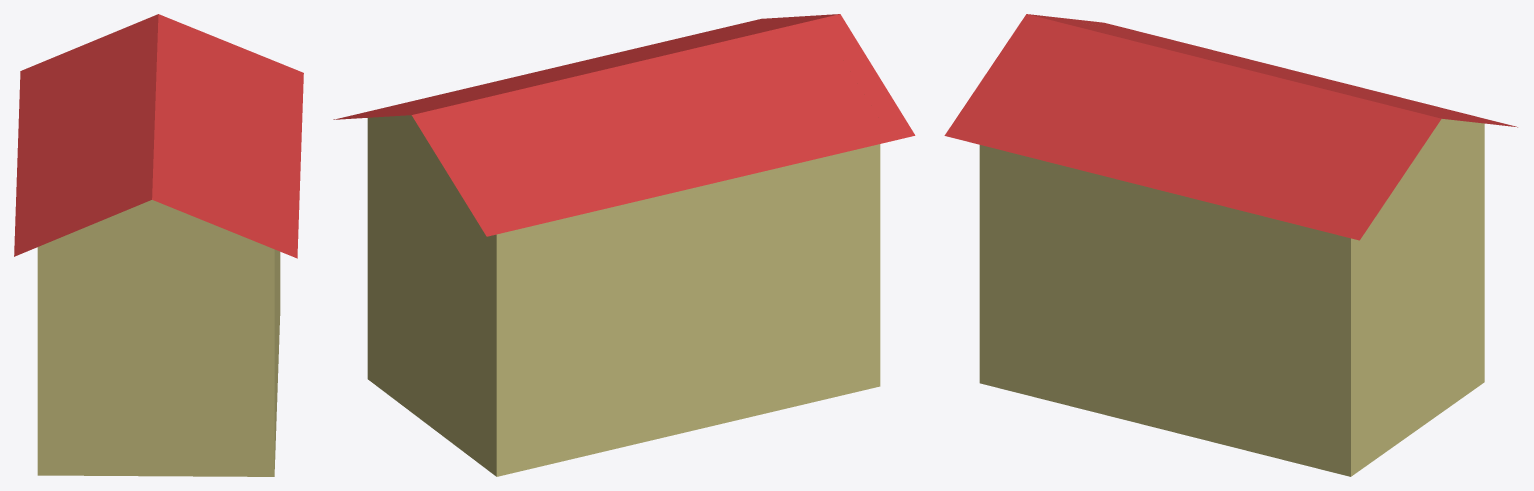
3 renders of one model, left to right at view 1: azimuth 30°, elevation 25°; view 2: azimuth 150°, elevation 25°; view 3: azimuth 270°, elevation 25°, orthographic. The views are drawn at different scales.
Visible parts, largest first — view 1: group_5, group_3, group_4; view 2: group_5, group_3, group_4; view 3: group_5, group_3, group_4.
Part boxes in pixels (x1,y1,x2,y2): group_5: (37, 200, 280, 476); group_3: (20, 14, 303, 258); group_4: (14, 14, 158, 256); group_5: (367, 115, 880, 476); group_3: (333, 14, 879, 236); group_4: (412, 14, 915, 235); group_5: (979, 119, 1484, 476); group_3: (944, 14, 1517, 240); group_4: (1027, 14, 1507, 124).
Size of the model in its own units: 15.12 by 16.86 by 10.19.
